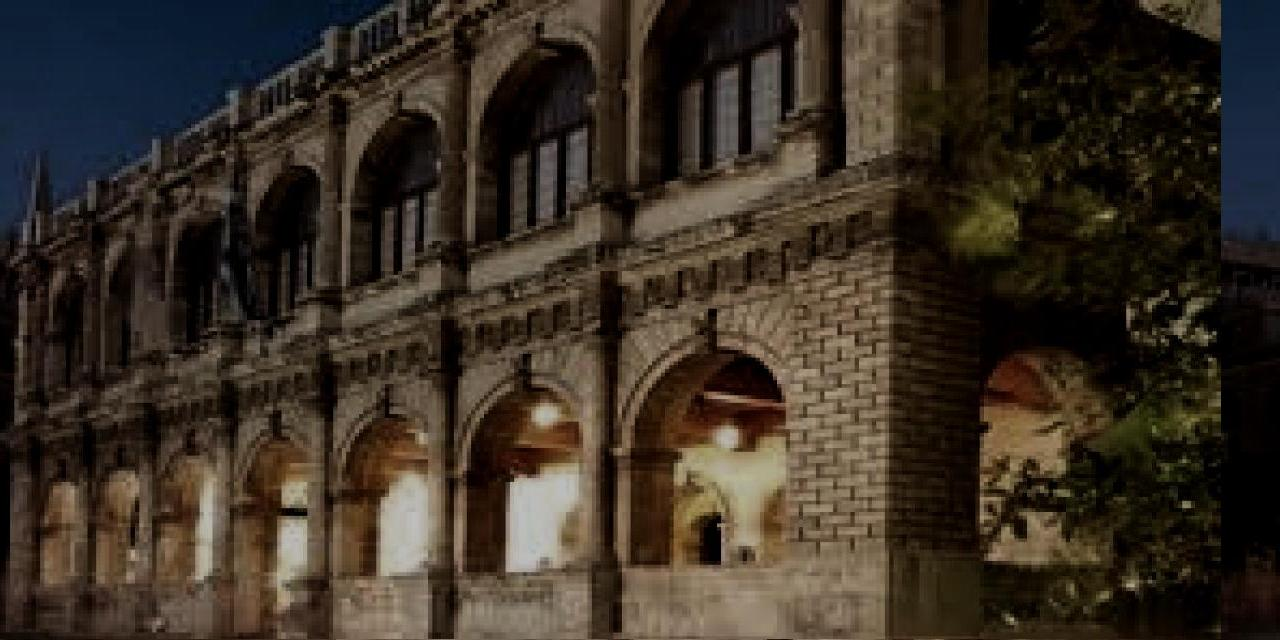Loggia: (1, 1, 1222, 640)
